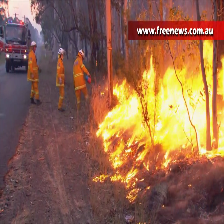fire_h: (93, 40, 224, 201), (110, 167, 145, 187)
fire_l: (126, 188, 142, 203), (92, 174, 109, 183)
